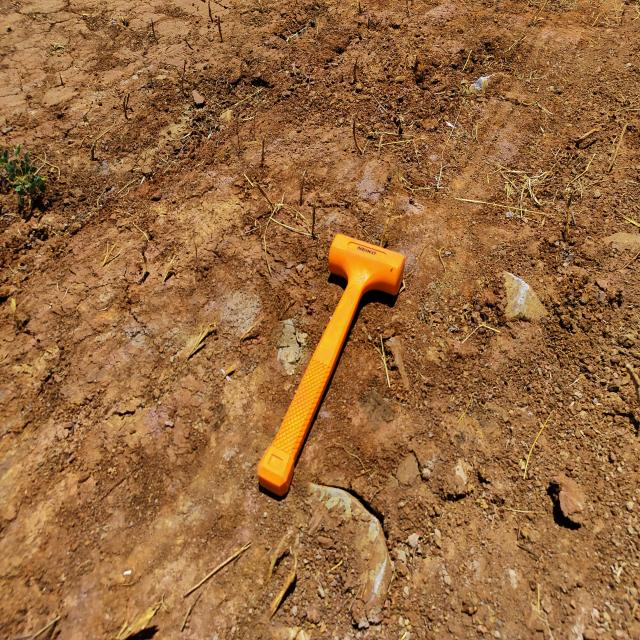Orange_hammer: (256, 232, 406, 497)
